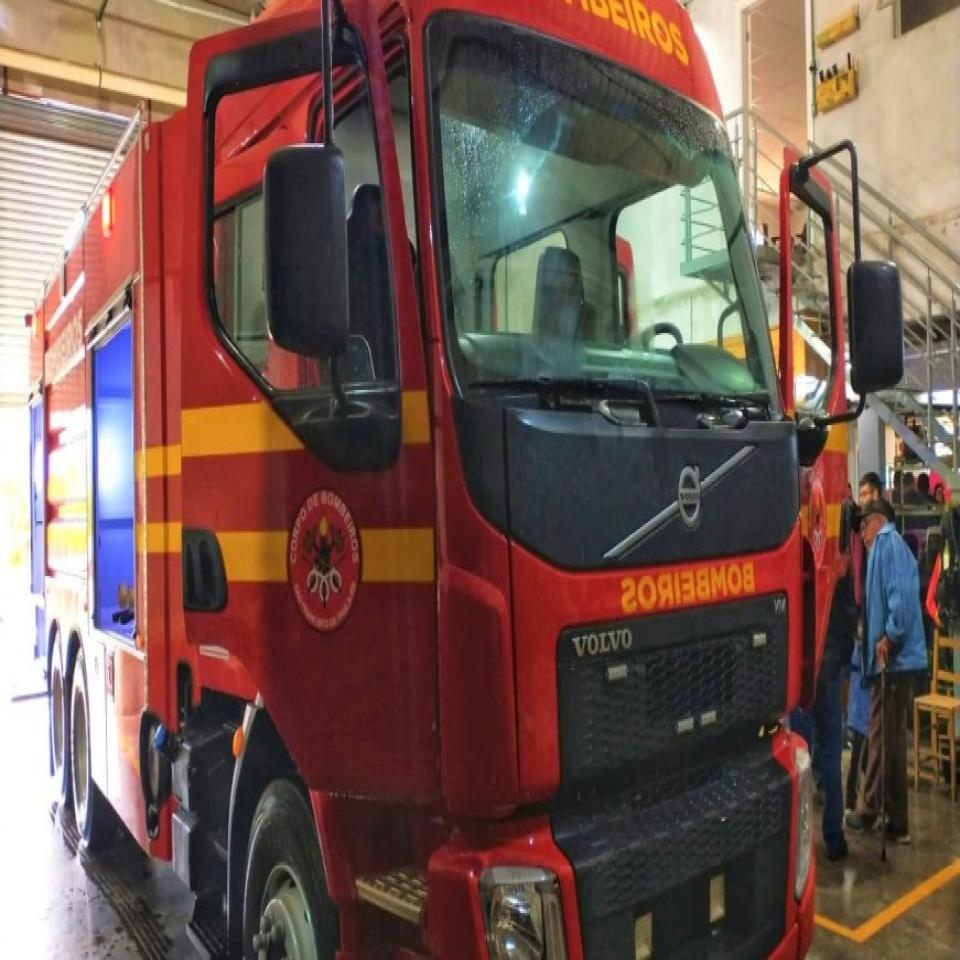viatura: (25, 0, 854, 960)
